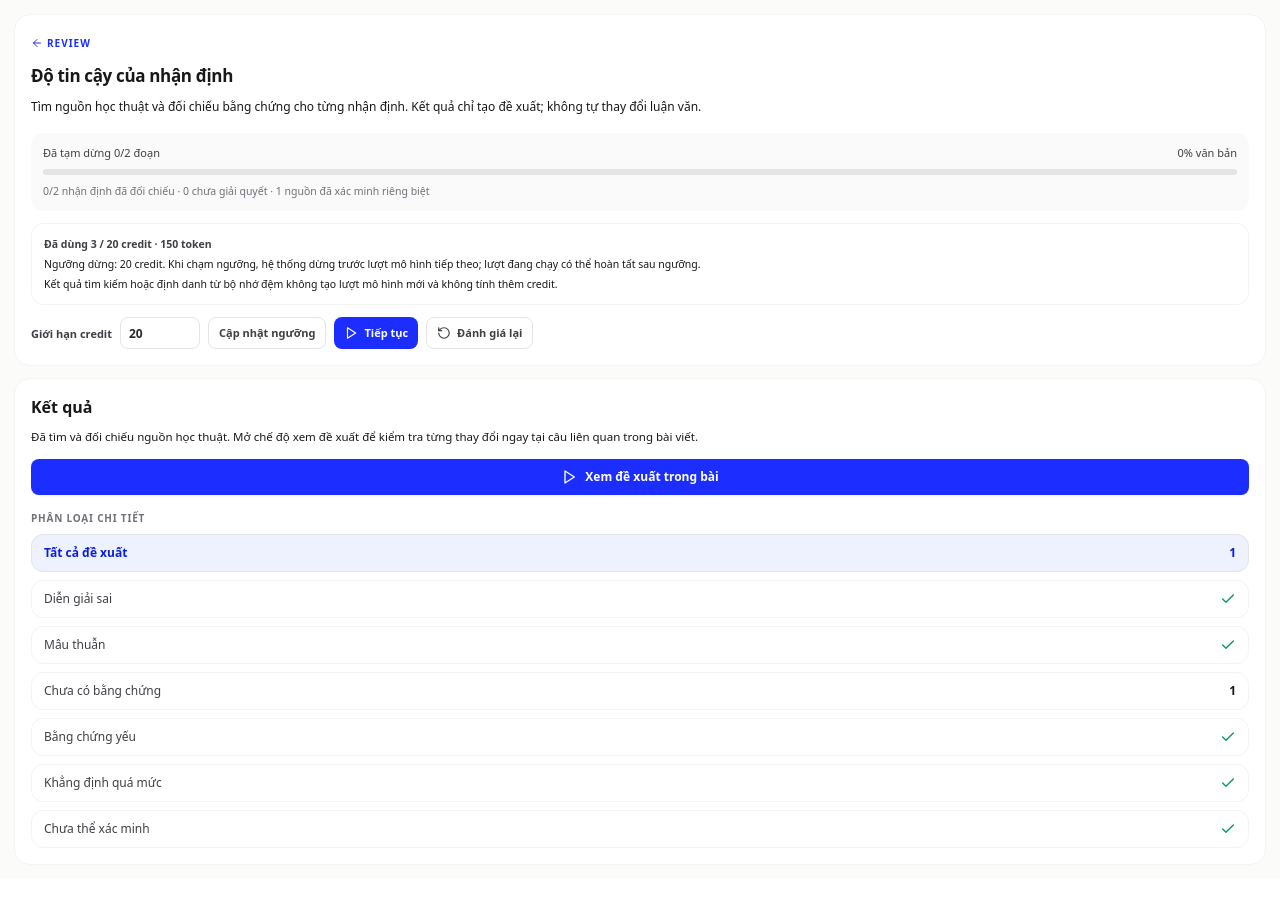
it: ClaimConfidencePanel › updates a paused review budget without restarting or processing another đoạn
Replace the text in the number field labelled "Giới hạn credit" with "75" at {"x": 160, "y": 333}, box top-left (120, 317), bottom-right (200, 349)
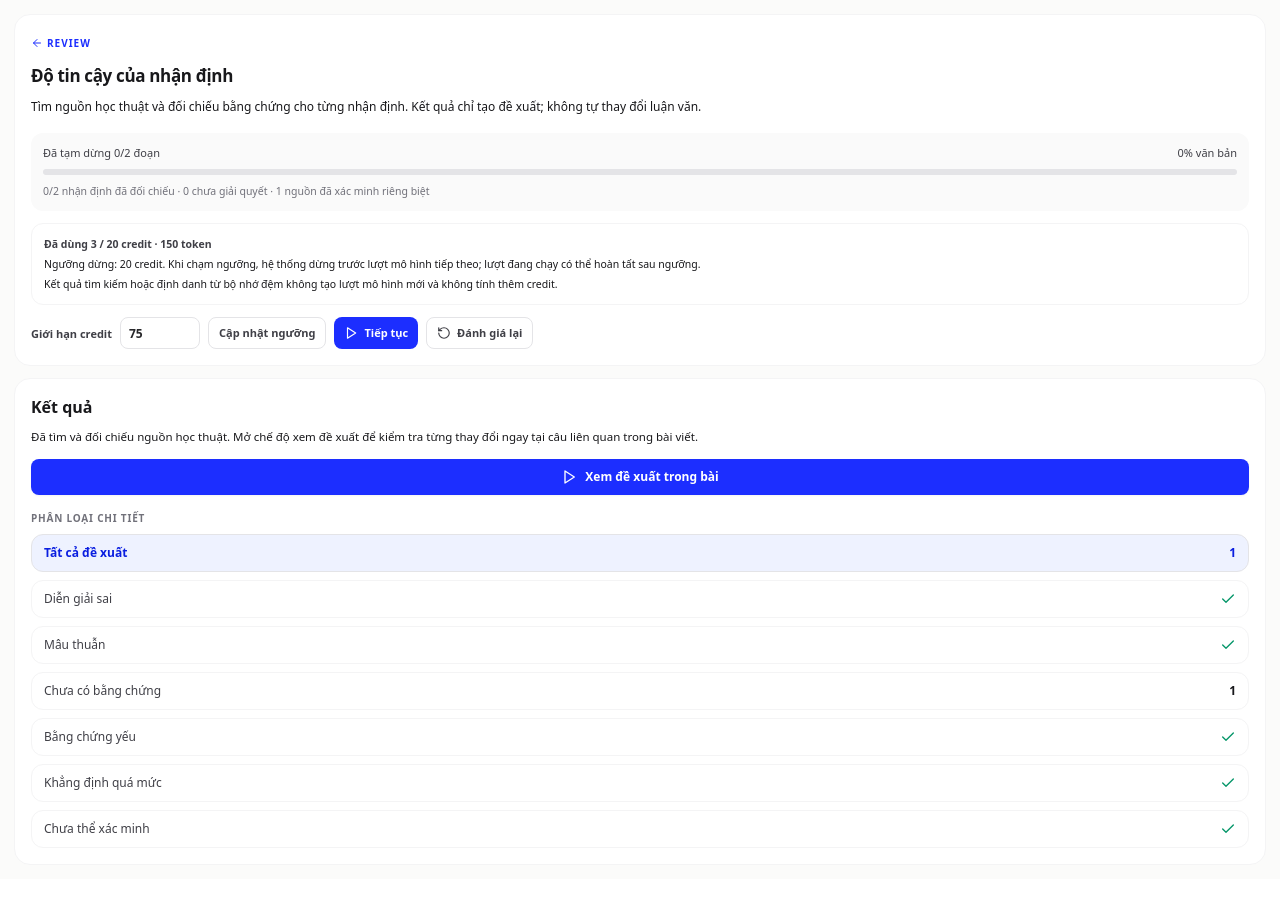
Click the button "Cập nhật ngưỡng" at {"x": 267, "y": 333}, box top-left (208, 317), bottom-right (326, 349)
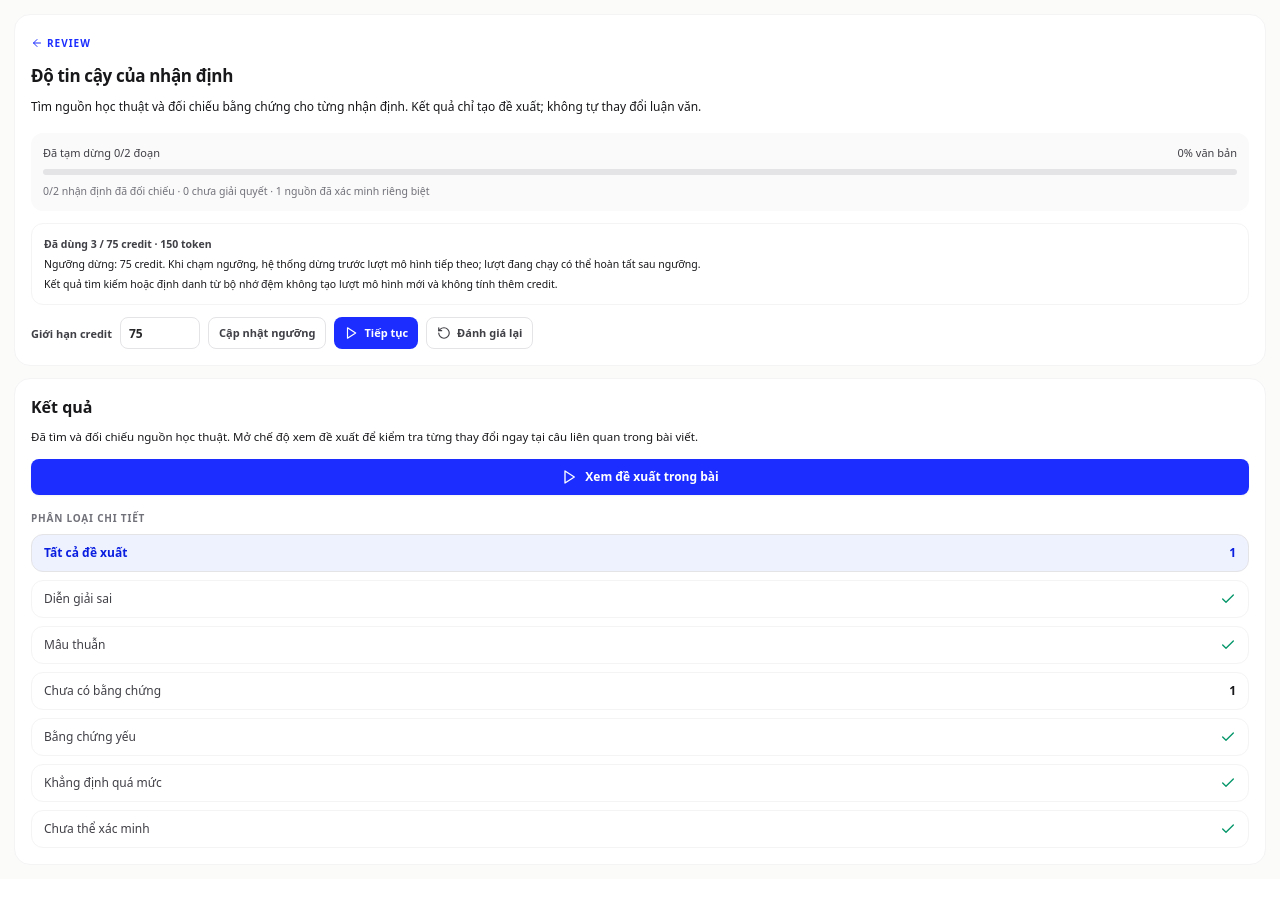
Now the text "Đã dùng 3 / 75 credit · 150 token" is shown, box top-left (44, 237), bottom-right (212, 251)
